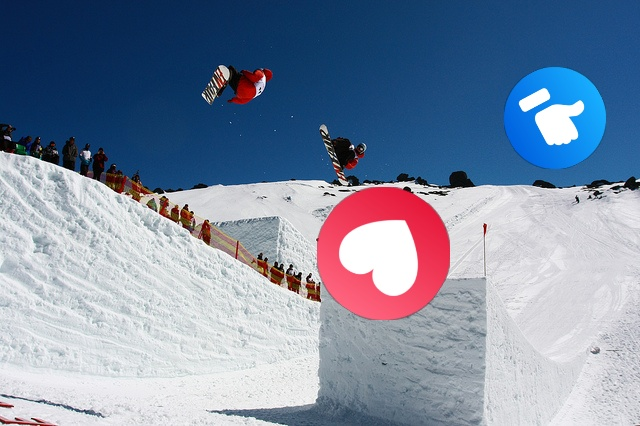like: (504, 67, 606, 169)
love: (317, 187, 450, 320)
